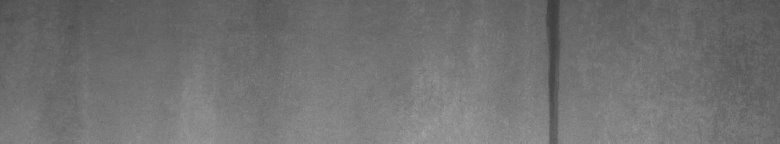hd: (540, 4, 567, 136)
